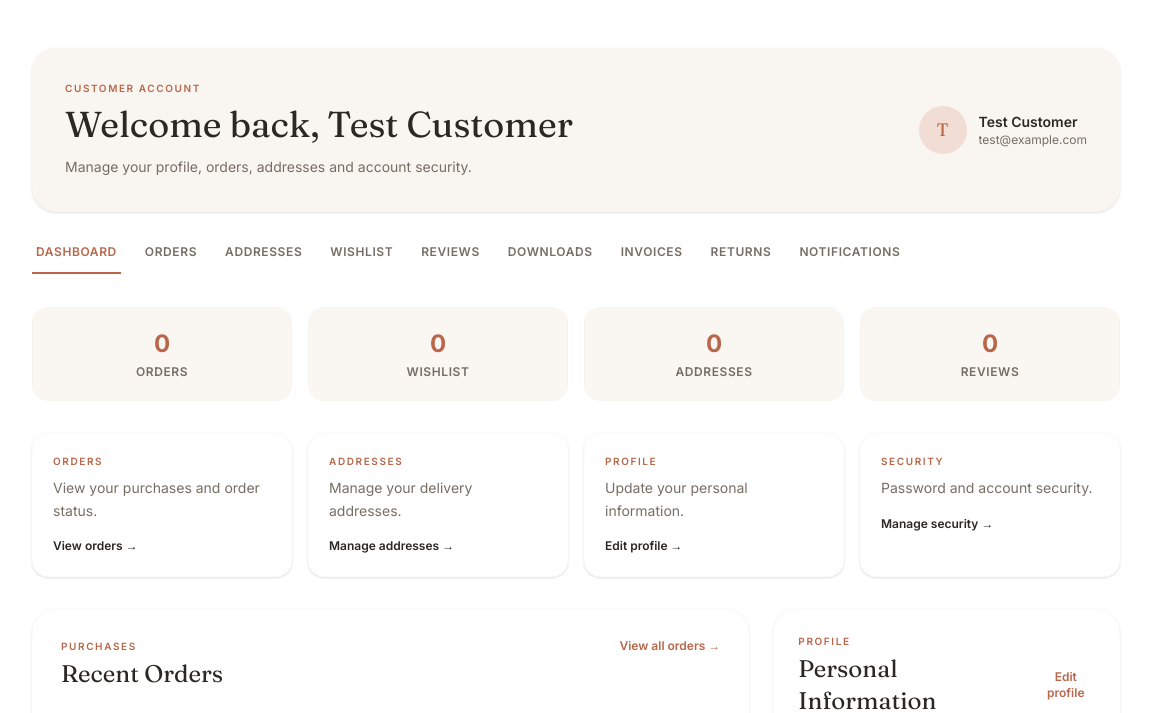
Test case: profile › saves profile changes
Check: the heading "Welcome back, Test Customer" is shown, box [65, 104, 573, 144]
Click the button "Edit profile" at (1066, 685), box [1037, 669, 1095, 701]
(page scrolled)
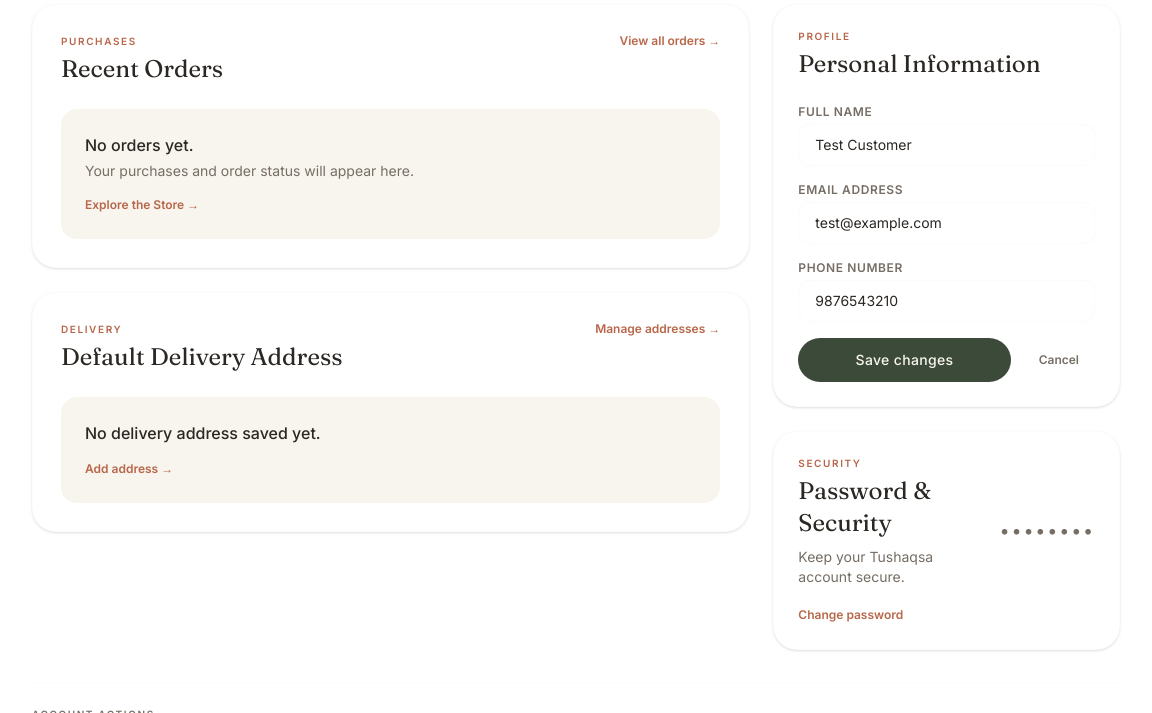
Click the button "Save changes" at (904, 360), box [798, 338, 1011, 382]
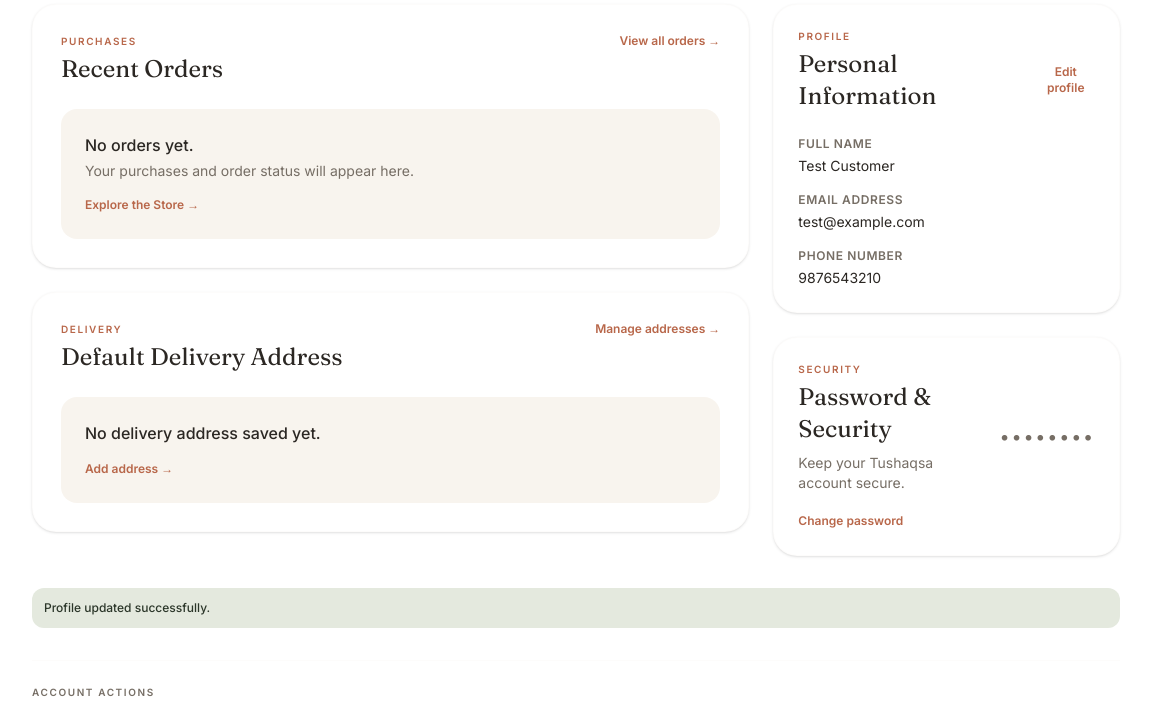
Check: the text "Profile updated successfully." is shown, box [32, 588, 1120, 628]
